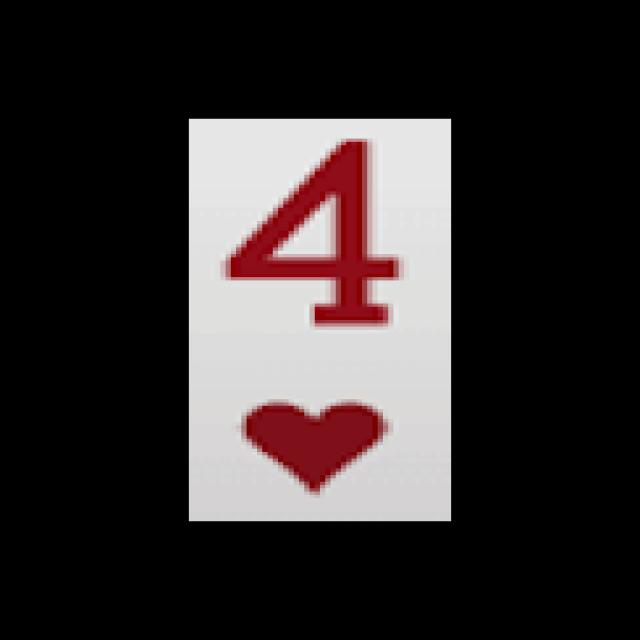4H: (202, 130, 432, 508)
